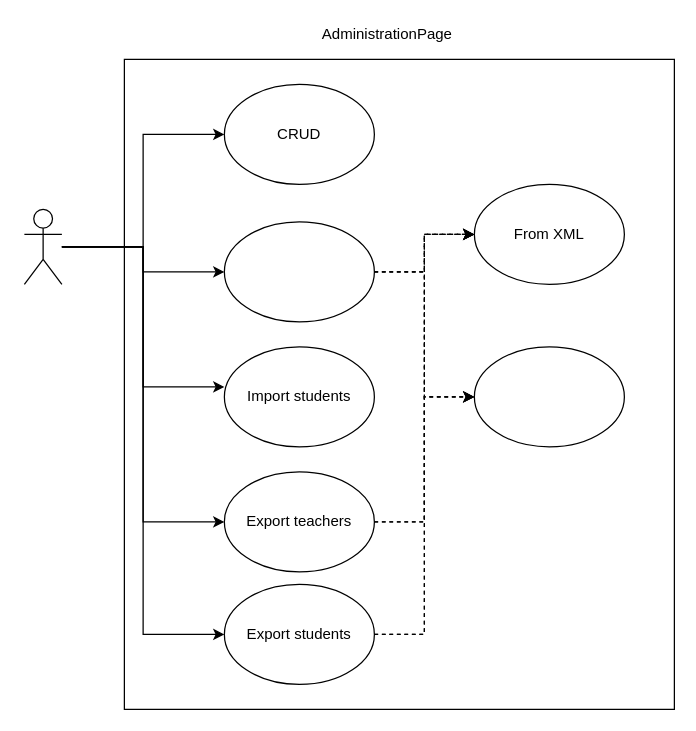
The diagram is 696 pixels wide and 731 high, and some of its shapes have lost their labels. Here are the shapes that lost their labels. From the top down, the centre of each, then its label:
[42,246]: Admin
[298,271]: Import teachers
[548,396]: From JSON
